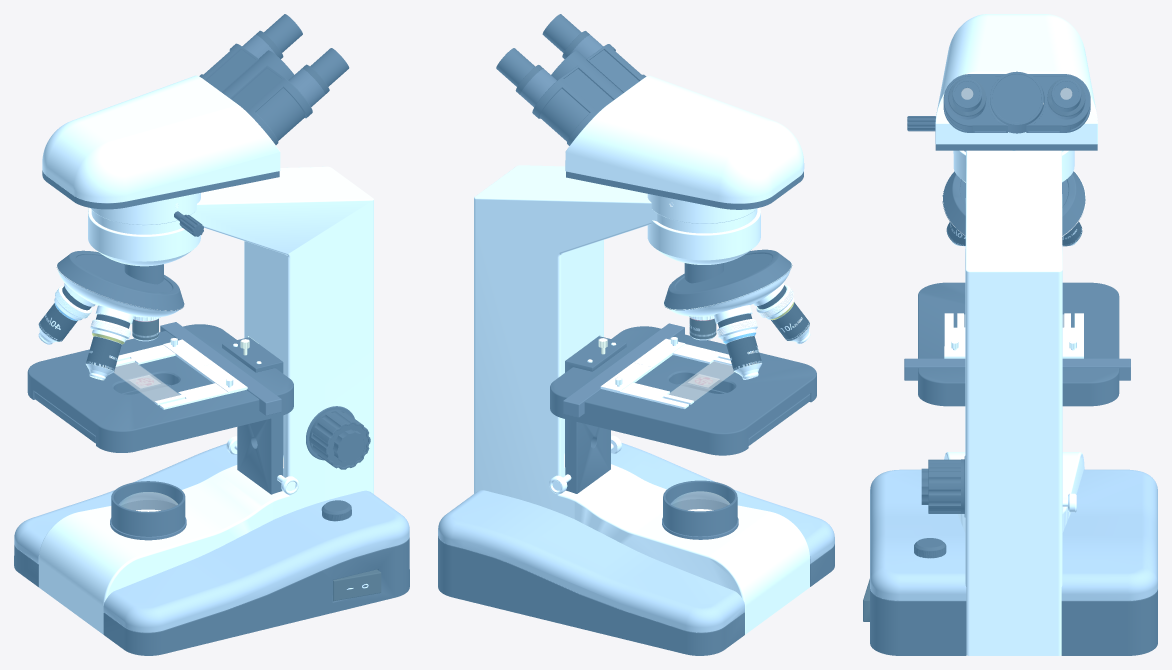
File: scenovis-mikroskop.glb
The picture shows the model from 3 angles, left to right: view 1: azimuth 30°, elevation 25°; view 2: azimuth 150°, elevation 25°; view 3: azimuth 270°, elevation 25°; orthographic projection. The views are drawn at different scales.
Parts seen in each view (by area): view 1: Stand_Frame, Head_Body, Base_SidePanel_L, Stage_Plate, Base_Foot_L, Head_Column_Lower, Stage_FocusCarrier, Nosepiece_Mount, Base_SidePanel_R, Illuminator_Housing, Head_EyeTube_L, FocusKnob_Coarse_L (+20 smaller); view 2: Stand_Frame, Head_Body, Base_SidePanel_R, Stage_Plate, Base_Foot_R, Head_Column_Lower, Nosepiece_Mount, Base_SidePanel_L, Stage_FocusCarrier, Illuminator_Housing, Head_EyeTube_R, Objective_40x (+18 smaller); view 3: Stand_Frame, Base_SidePanel_R, Head_Body, Stage_Plate, Base_SidePanel_L, Base_Foot_L, Base_Foot_R, Head_BinocularBlock, FocusKnob_Coarse_L, Nosepiece_Mount, Head_EyeTube_R, Head_EyeTube_L (+9 smaller).
Boxes of the visible parts, x1=… form: Stand_Frame: x1=39, y1=166, x2=373, y2=634; Head_Body: x1=42, y1=75, x2=280, y2=203; Base_SidePanel_L: x1=103, y1=490, x2=409, y2=632; Stage_Plate: x1=27, y1=324, x2=293, y2=452; Base_Foot_L: x1=103, y1=537, x2=409, y2=655; Head_Column_Lower: x1=88, y1=208, x2=200, y2=266; Stage_FocusCarrier: x1=222, y1=337, x2=283, y2=494; Nosepiece_Mount: x1=56, y1=250, x2=184, y2=311; Base_SidePanel_R: x1=14, y1=443, x2=237, y2=564; Illuminator_Housing: x1=111, y1=481, x2=185, y2=536; Head_EyeTube_L: x1=230, y1=65, x2=312, y2=144; FocusKnob_Coarse_L: x1=309, y1=409, x2=370, y2=469; Stand_Frame: x1=474, y1=165, x2=809, y2=634; Head_Body: x1=565, y1=75, x2=804, y2=203; Base_SidePanel_R: x1=438, y1=490, x2=744, y2=632; Stage_Plate: x1=550, y1=326, x2=816, y2=455; Base_Foot_R: x1=438, y1=536, x2=744, y2=655; Head_Column_Lower: x1=647, y1=207, x2=760, y2=264; Nosepiece_Mount: x1=664, y1=249, x2=792, y2=310; Base_SidePanel_L: x1=611, y1=443, x2=834, y2=563; Stage_FocusCarrier: x1=565, y1=336, x2=626, y2=493; Illuminator_Housing: x1=663, y1=480, x2=737, y2=536; Head_EyeTube_R: x1=532, y1=65, x2=614, y2=145; Objective_40x: x1=713, y1=305, x2=762, y2=379; Stand_Frame: x1=944, y1=150, x2=1084, y2=655; Base_SidePanel_R: x1=1061, y1=469, x2=1157, y2=600; Head_Body: x1=935, y1=14, x2=1097, y2=144; Stage_Plate: x1=918, y1=282, x2=1119, y2=406; Base_SidePanel_L: x1=870, y1=469, x2=966, y2=600; Base_Foot_L: x1=870, y1=589, x2=966, y2=655; Base_Foot_R: x1=1061, y1=589, x2=1157, y2=655; Head_BinocularBlock: x1=990, y1=71, x2=1043, y2=133; FocusKnob_Coarse_L: x1=921, y1=459, x2=964, y2=513; Nosepiece_Mount: x1=942, y1=171, x2=1085, y2=236; Head_EyeTube_R: x1=1026, y1=74, x2=1090, y2=132; Head_EyeTube_L: x1=943, y1=74, x2=1007, y2=132.
Bounding box in the file's own units: 0.2547 × 0.4334 × 0.2086.
20 materials, 5 textured.
